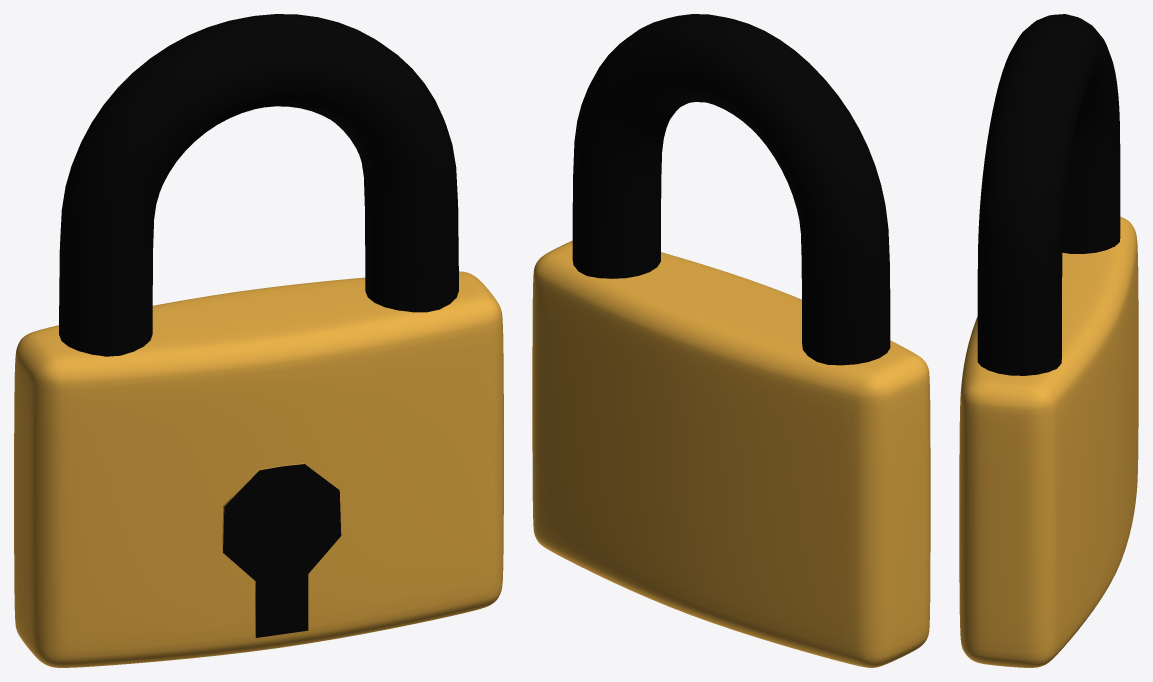
The model's file is Lock Animation new.fbx.
3 views of the same model, side by side, from view 1: azimuth 30°, elevation 25°; view 2: azimuth 150°, elevation 25°; view 3: azimuth 270°, elevation 25° (orthographic). The views are drawn at different scales.
Visible parts, largest first — view 1: Lock; view 2: Lock; view 3: Lock.
Part boxes in pixels (box(x1,y1,x2,y2)): Lock: box(14, 14, 503, 667); Lock: box(532, 14, 930, 667); Lock: box(959, 14, 1138, 667).
Bounding box in the file's own units: 199 × 268 × 79.03.
